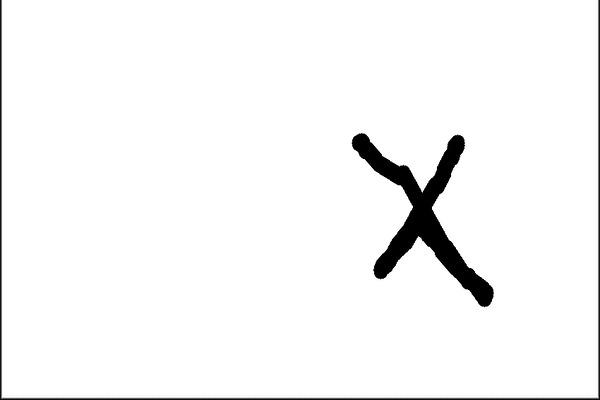X: (325, 120, 509, 324)
